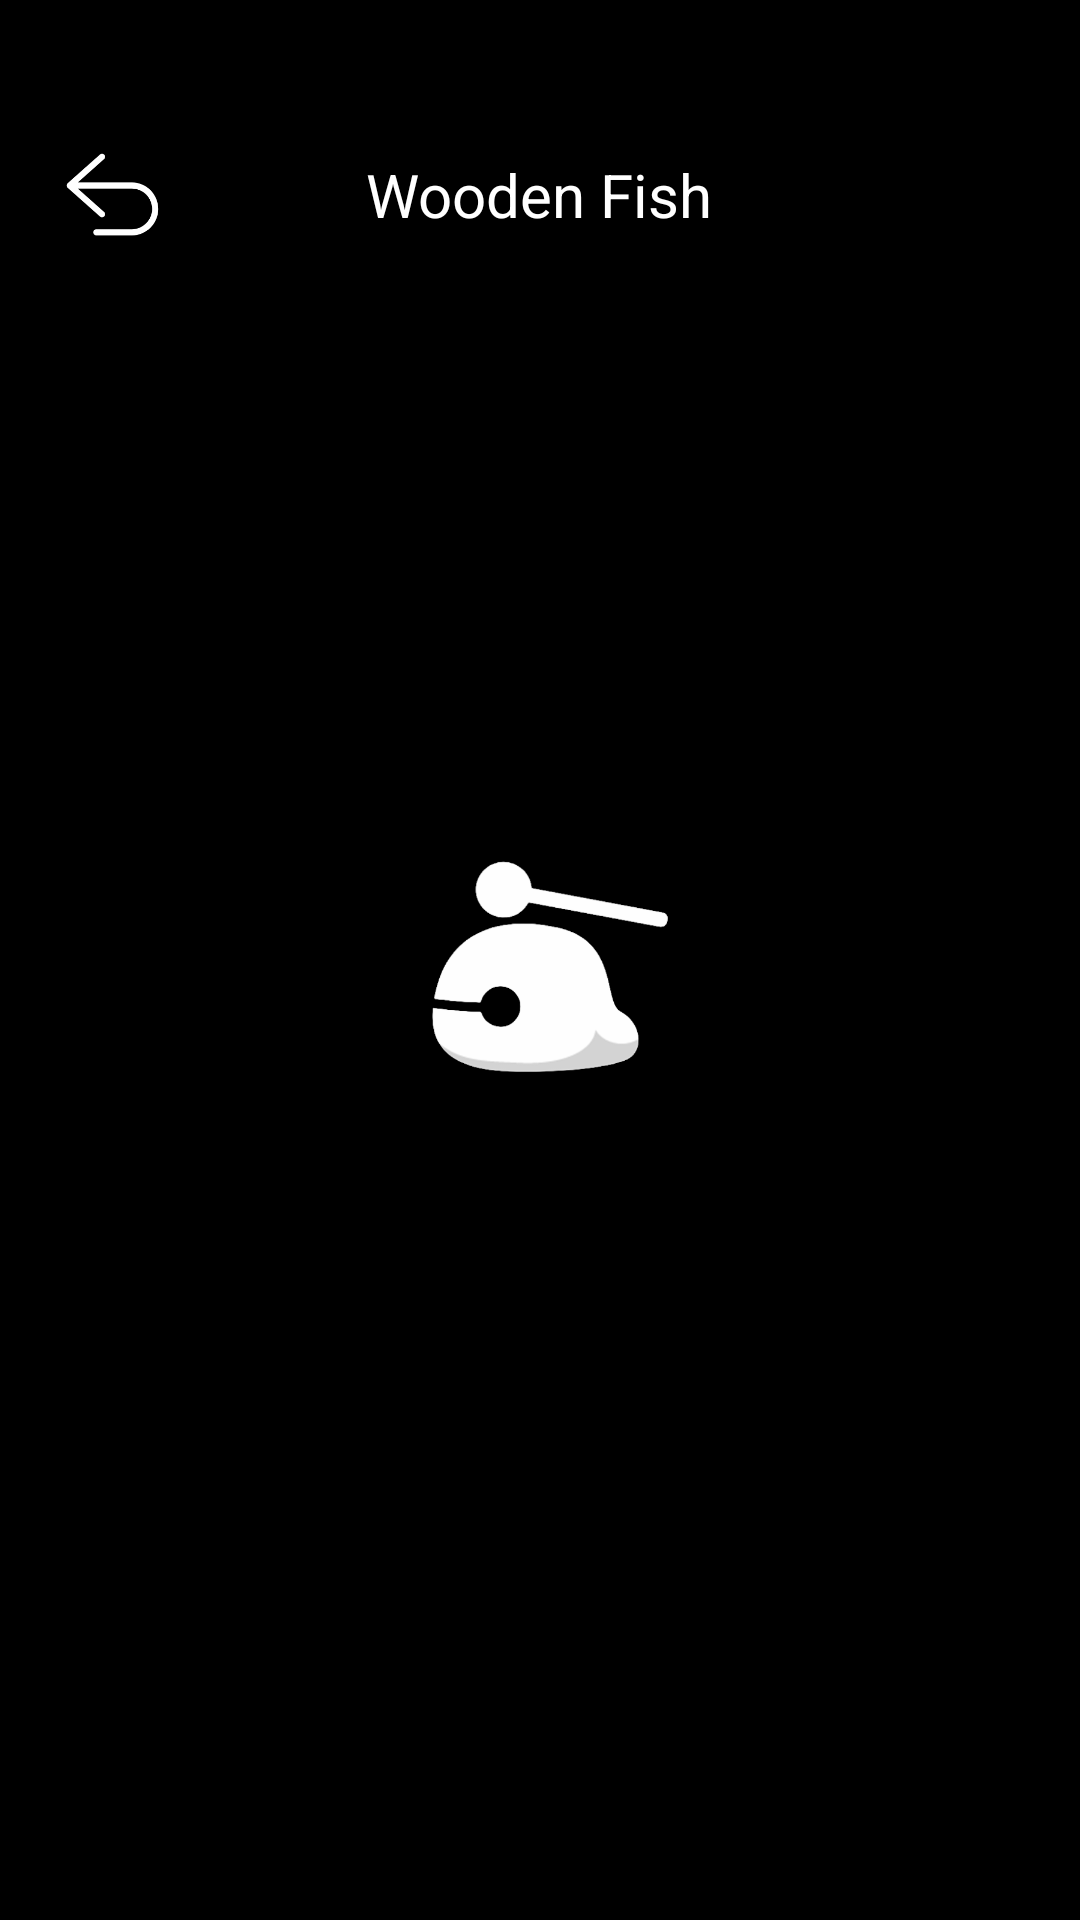

Named icons in this screenshot (1080 x 1920) and their bounding boxes, (x1, y1, x2, y2):
back: (66, 153, 159, 236)
wooden fish: (432, 861, 668, 1072)
